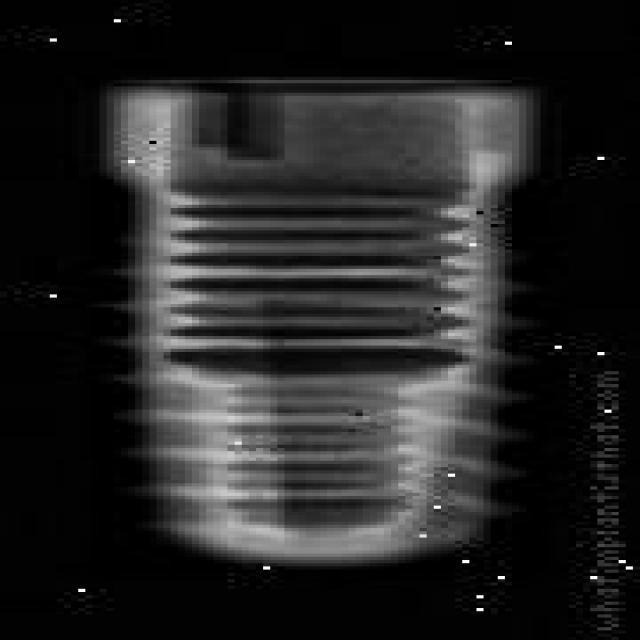Root canal obturation: (92, 83, 548, 579)
